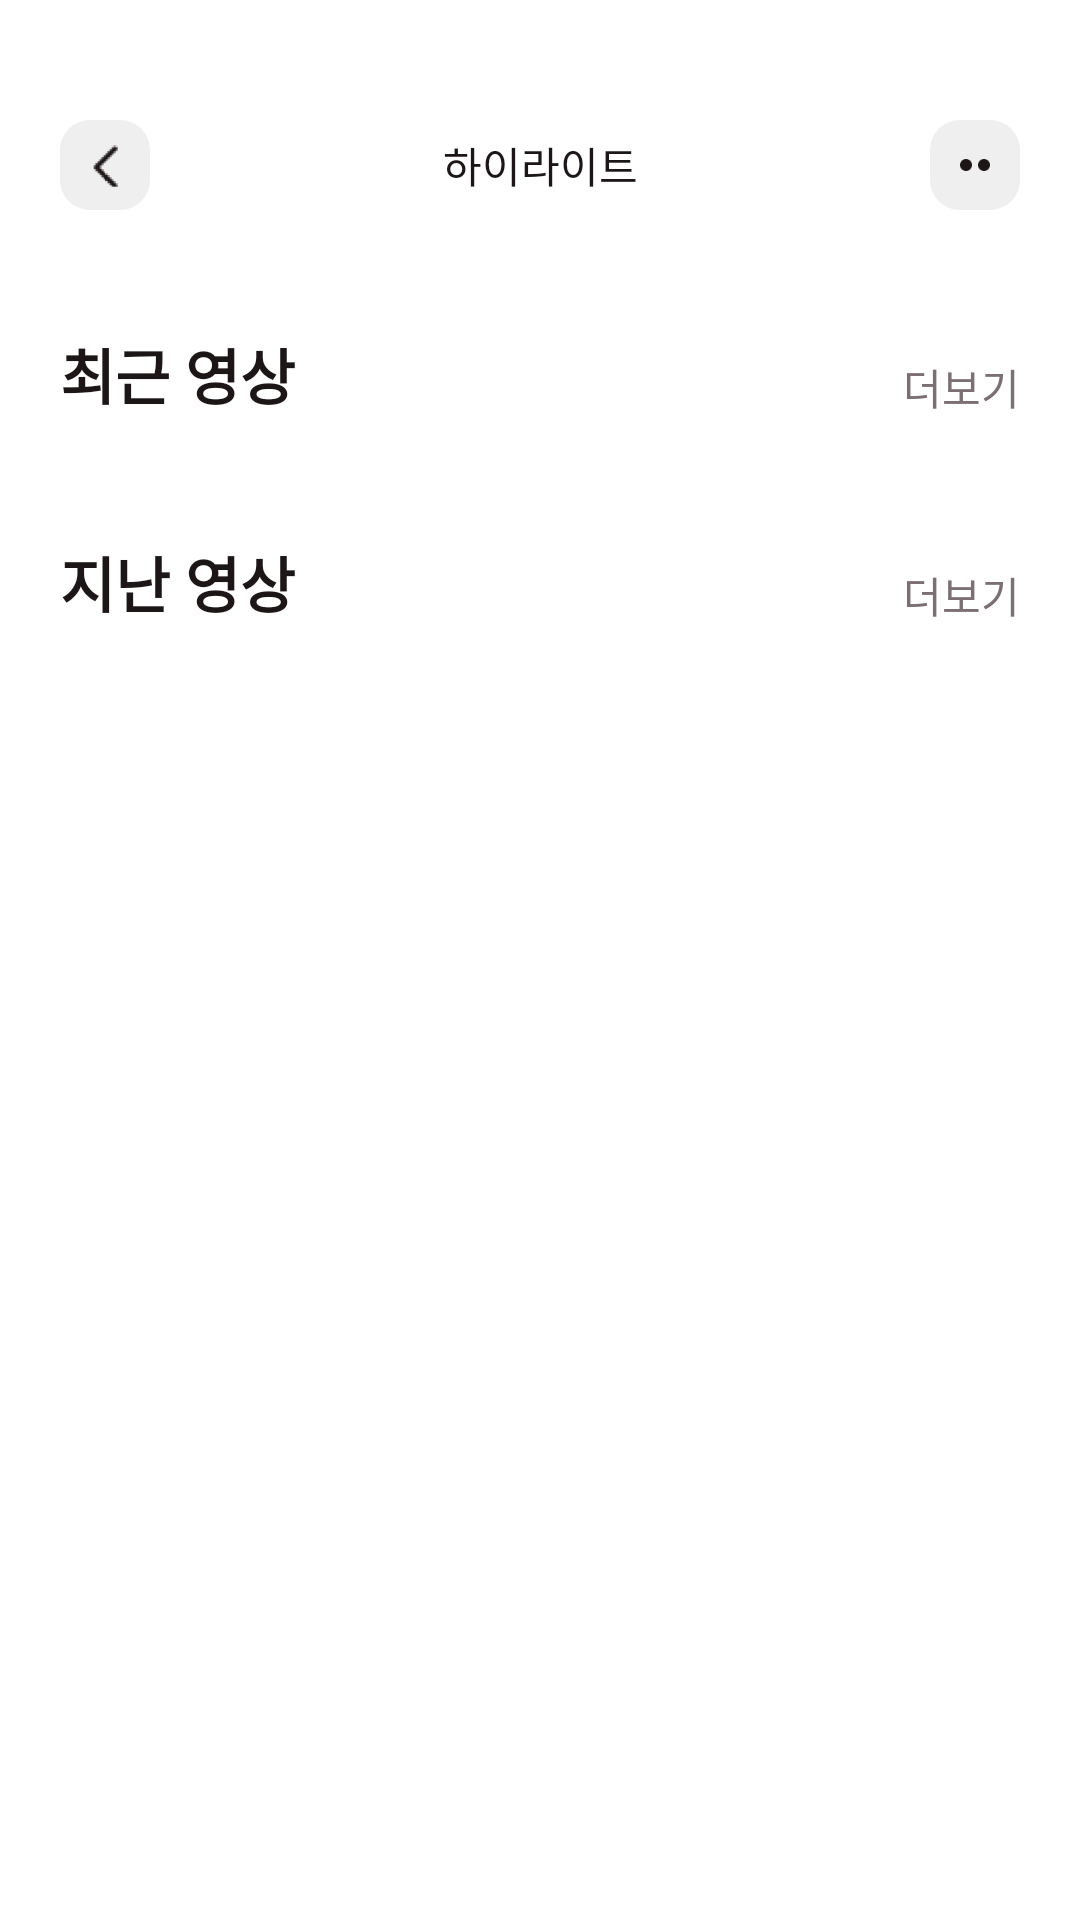

Icons on this 1080*1920 Android screen, each with the point to tap as point (x, y):
back: point (105, 165)
dots: point (975, 165)
